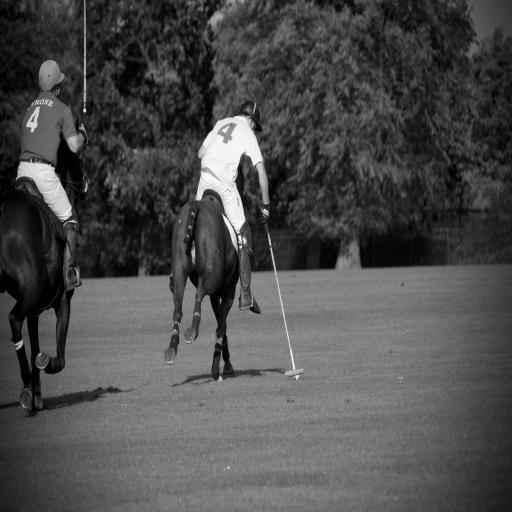horse: (0, 115, 90, 419), (161, 162, 246, 382)
